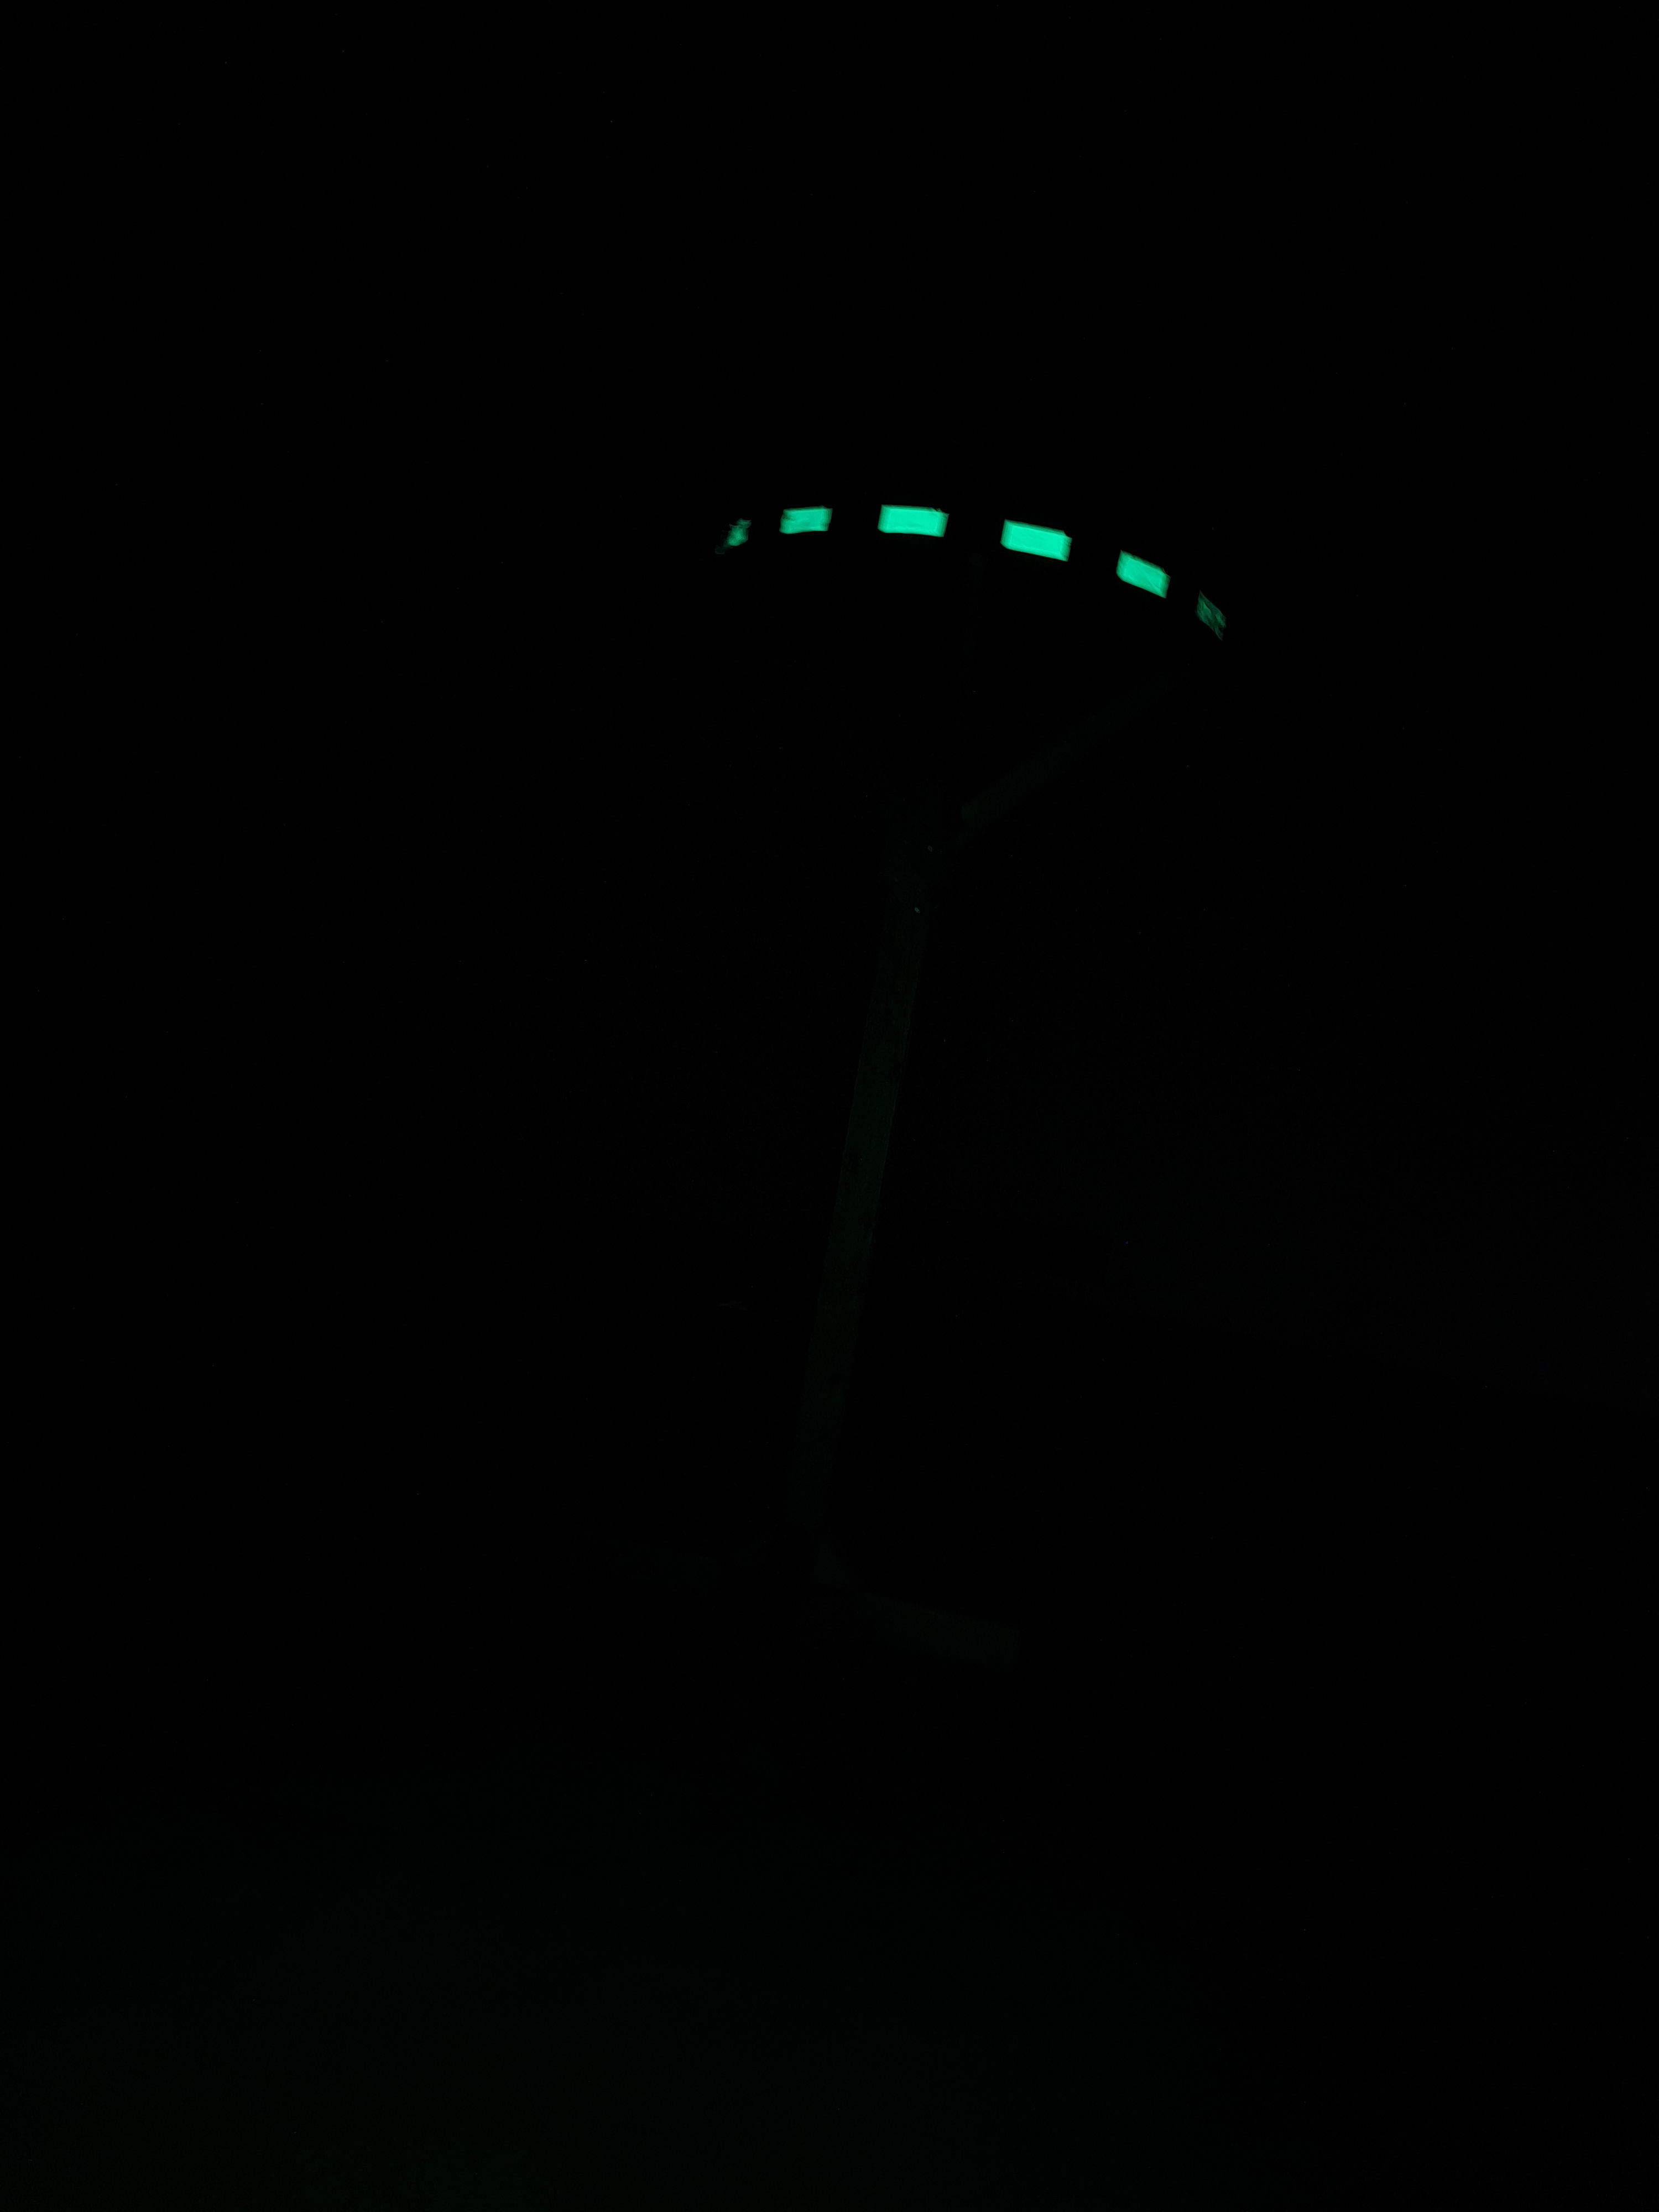hoop: (709, 491, 1227, 648)
